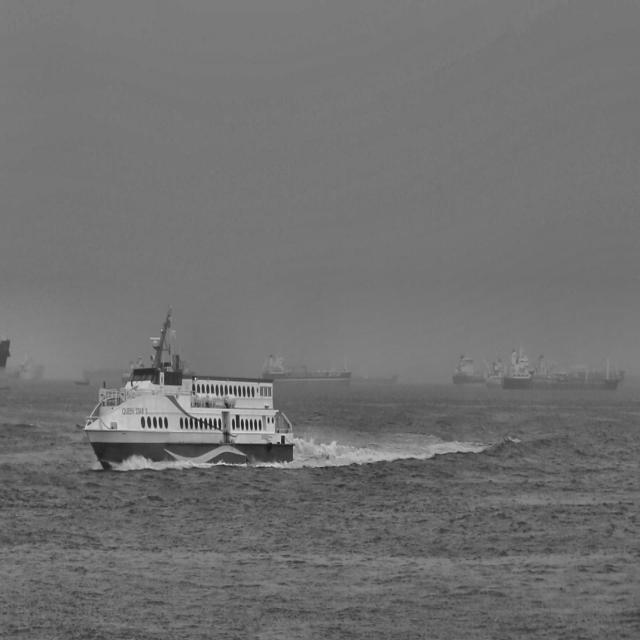ship: (81, 299, 296, 473), (500, 344, 620, 394), (260, 350, 353, 383), (450, 352, 485, 387), (8, 352, 44, 383), (483, 355, 506, 389), (1, 338, 12, 392), (73, 374, 90, 389)
